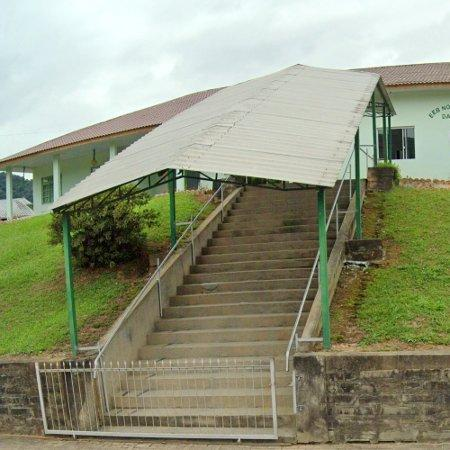stairs: (123, 187, 318, 437)
